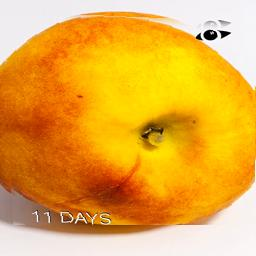Peach Semifresh: (3, 11, 256, 225)
